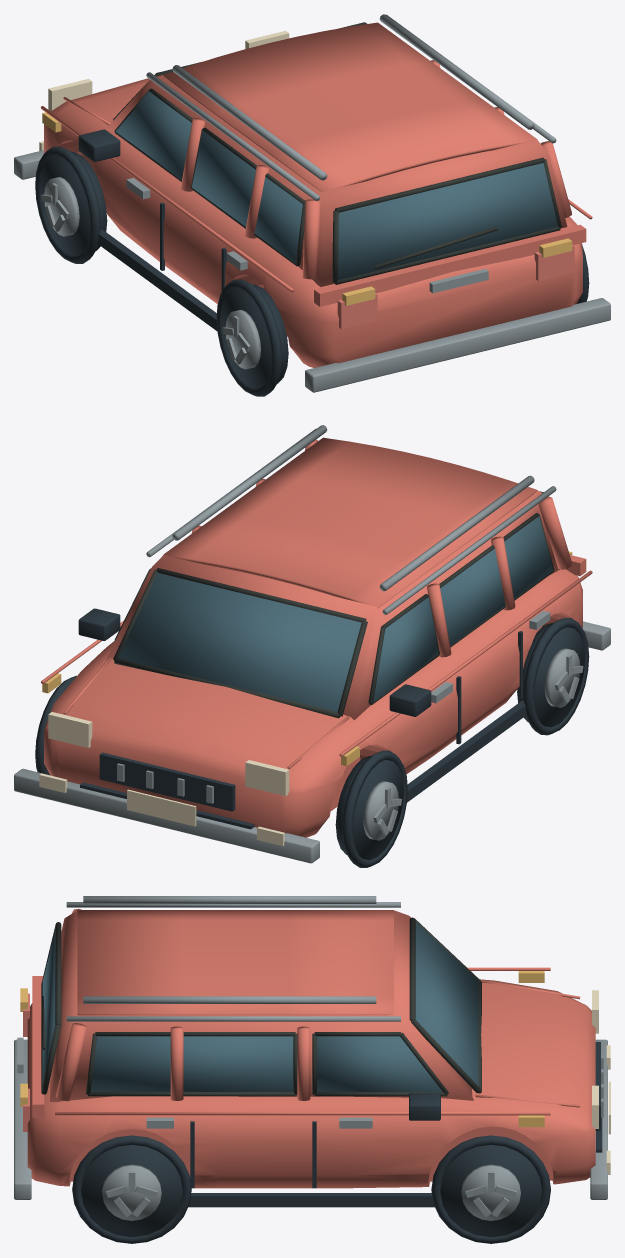
File: AH03_CampCar.fbx
The picture shows the model from 3 angles, top to bottom: view 1: azimuth 30°, elevation 25°; view 2: azimuth 150°, elevation 25°; view 3: azimuth 270°, elevation 25°; orthographic projection.
Parts seen in each view (by area): view 1: AH03_CampCar_AH03_PaintRose, AH03_CampCar_AH03_AutoGlass, AH03_CampCar_AH03_Metal, AH03_CampCar_AH03_Dark, AH03_CampCar_AH03_Rubber, AH03_CampCar_AH03_Rose, AH03_CampCar_AH03_Cream, AH03_CampCar_AH03_Gold; view 2: AH03_CampCar_AH03_PaintRose, AH03_CampCar_AH03_AutoGlass, AH03_CampCar_AH03_Dark, AH03_CampCar_AH03_Metal, AH03_CampCar_AH03_Rubber, AH03_CampCar_AH03_Cream; view 3: AH03_CampCar_AH03_PaintRose, AH03_CampCar_AH03_AutoGlass, AH03_CampCar_AH03_Dark, AH03_CampCar_AH03_Metal, AH03_CampCar_AH03_Rubber, AH03_CampCar_AH03_Gold, AH03_CampCar_AH03_Cream.
Part boxes in pixels (<box>): AH03_CampCar_AH03_PaintRose: <box>41,22,592,367</box>; AH03_CampCar_AH03_AutoGlass: <box>116,92,557,280</box>; AH03_CampCar_AH03_Metal: <box>14,14,610,392</box>; AH03_CampCar_AH03_Dark: <box>35,129,589,396</box>; AH03_CampCar_AH03_Rubber: <box>113,22,561,284</box>; AH03_CampCar_AH03_Rose: <box>337,245,574,329</box>; AH03_CampCar_AH03_Cream: <box>39,30,289,150</box>; AH03_CampCar_AH03_Gold: <box>42,112,572,305</box>; AH03_CampCar_AH03_PaintRose: <box>41,437,592,837</box>; AH03_CampCar_AH03_AutoGlass: <box>118,516,552,711</box>; AH03_CampCar_AH03_Dark: <box>35,608,589,867</box>; AH03_CampCar_AH03_Metal: <box>14,425,610,863</box>; AH03_CampCar_AH03_Rubber: <box>113,491,554,718</box>; AH03_CampCar_AH03_Cream: <box>39,712,289,846</box>; AH03_CampCar_AH03_PaintRose: <box>27,908,595,1188</box>; AH03_CampCar_AH03_AutoGlass: <box>42,922,478,1091</box>; AH03_CampCar_AH03_Dark: <box>72,1042,602,1243</box>; AH03_CampCar_AH03_Metal: <box>14,896,607,1220</box>; AH03_CampCar_AH03_Rubber: <box>41,917,481,1096</box>; AH03_CampCar_AH03_Gold: <box>20,971,544,1127</box>; AH03_CampCar_AH03_Cream: <box>592,990,610,1174</box>.
Bounding box in the file's own units: 326 × 208 × 504.
